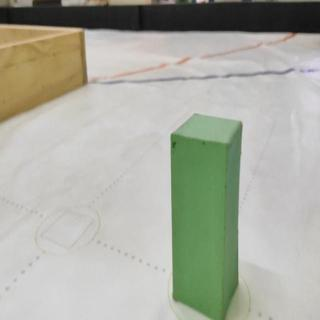greenbox: (170, 111, 245, 320)
